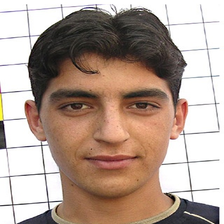no_mask: (44, 59, 169, 194)
